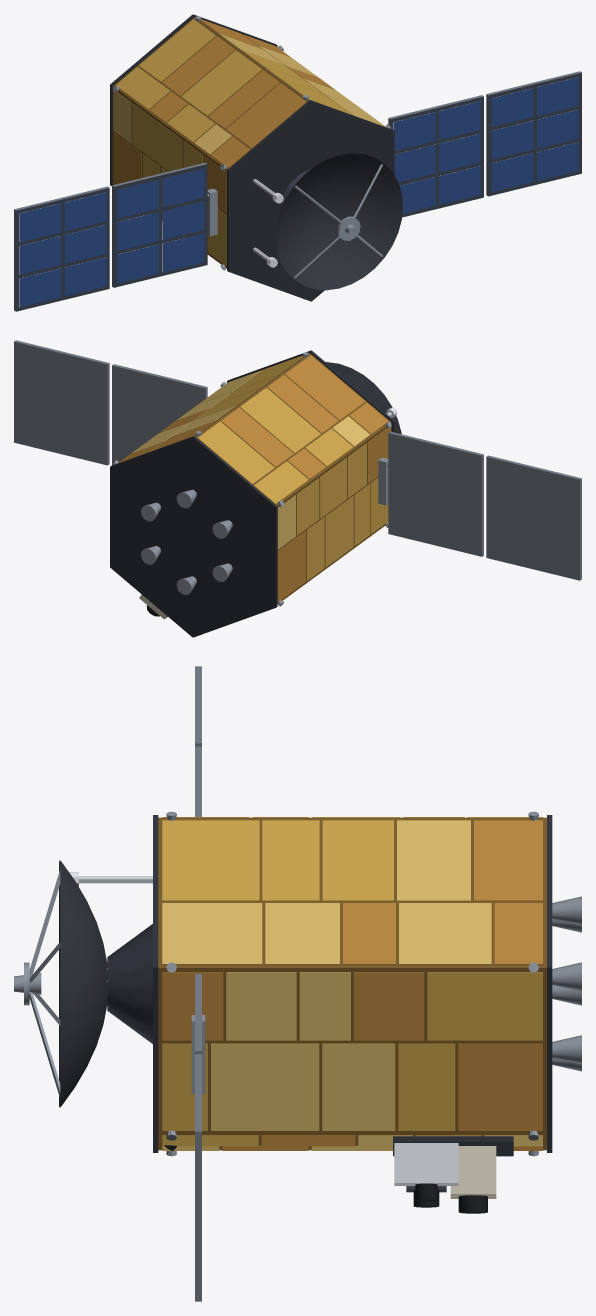
File: hope.glb
3 renders of one model, top to bottom at view 1: azimuth 30°, elevation 25°; view 2: azimuth 150°, elevation 25°; view 3: azimuth 270°, elevation 25°, orthographic. The views are drawn at different scales.
Parts seen in each view (by area): view 1: body, solar-panel, foil; view 2: body, foil; view 3: foil, body.
Boxes of the visible parts, x1,y1,x2,y2 form: body: (14,14,581,311); solar-panel: (19,77,578,307); foil: (112,17,386,268); body: (14,340,581,637); foil: (117,353,391,603); foil: (158,817,546,1150); body: (14,666,581,1301).
Bounding box in the file's own units: 8.21 × 3.04 × 4.24.
